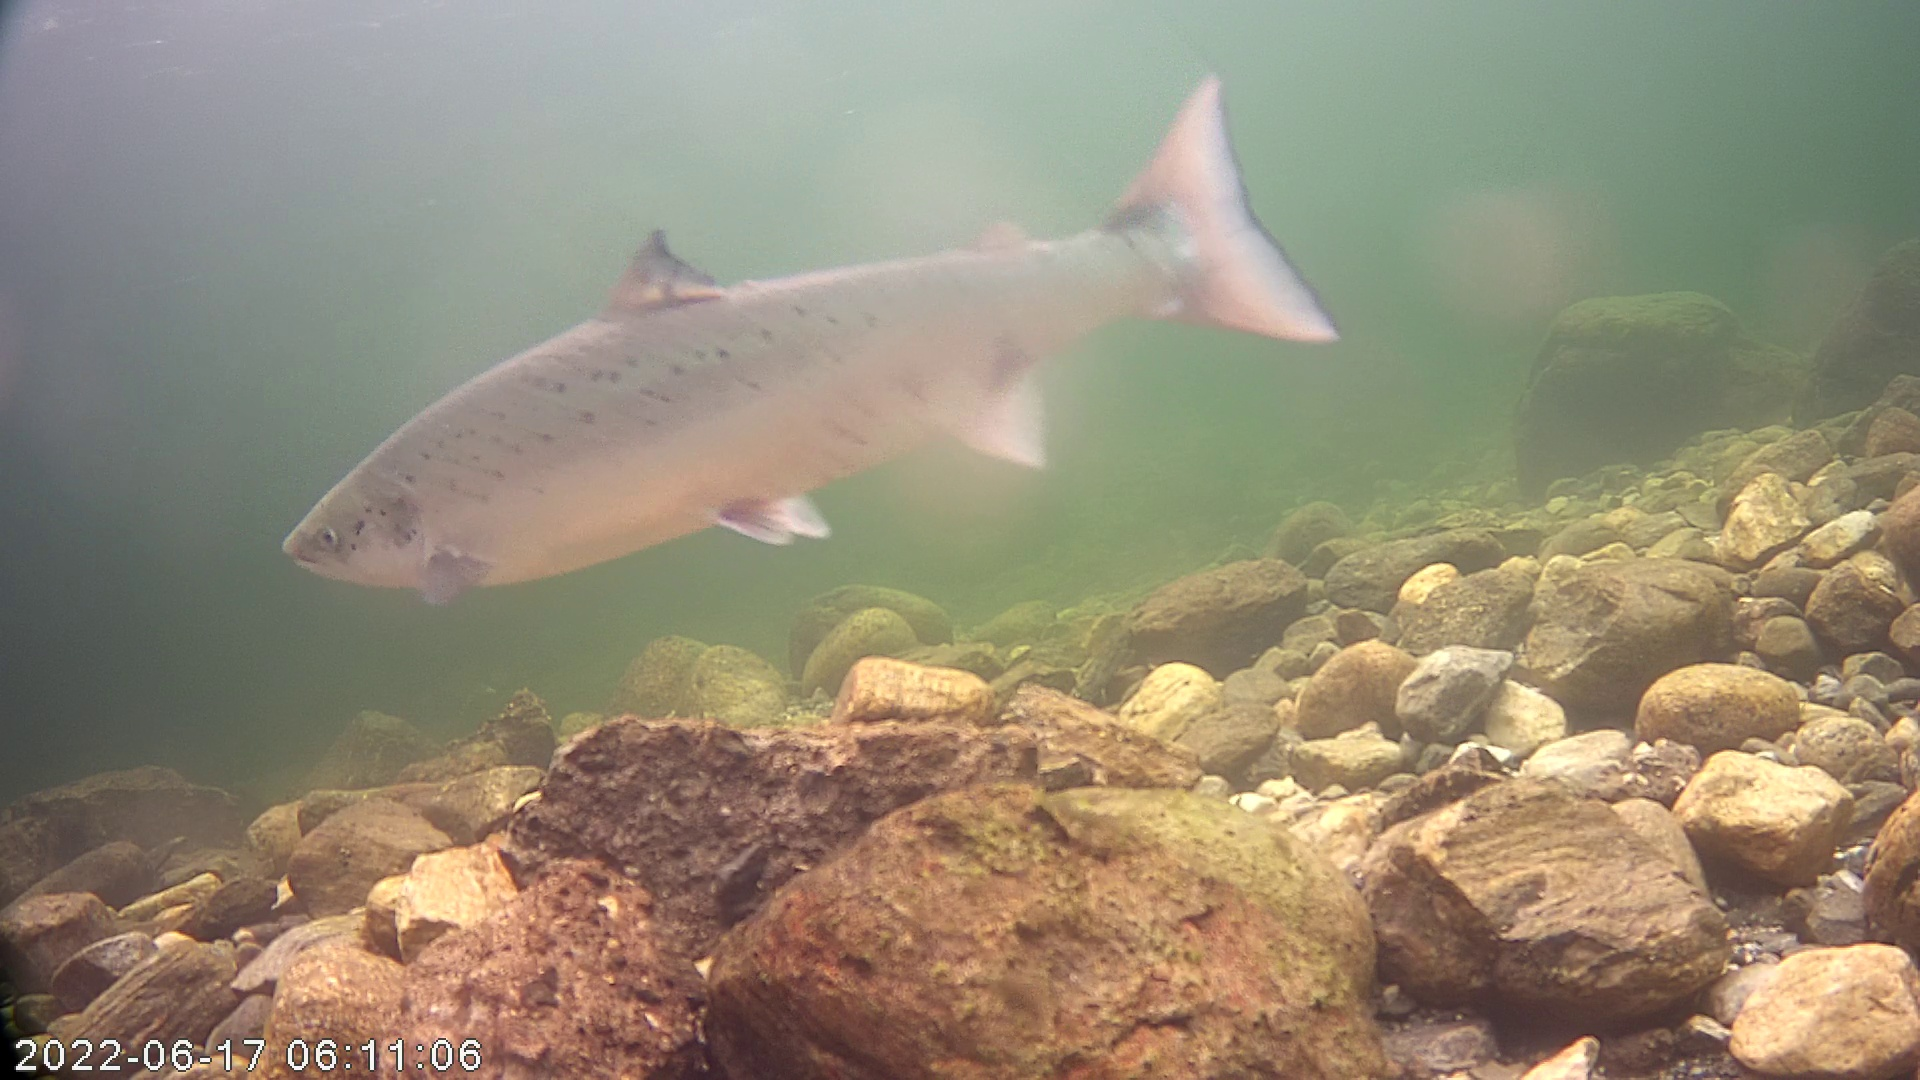salmon: (278, 69, 1344, 608)
